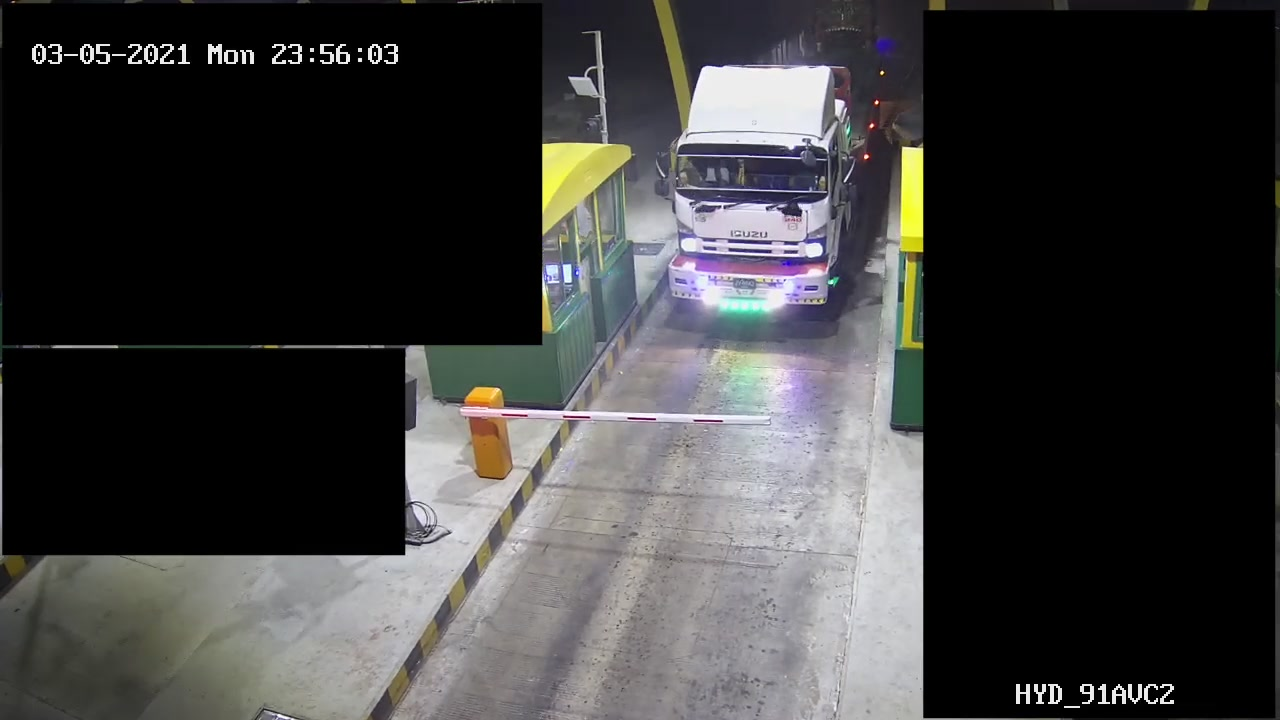F6: (661, 66, 885, 326)
